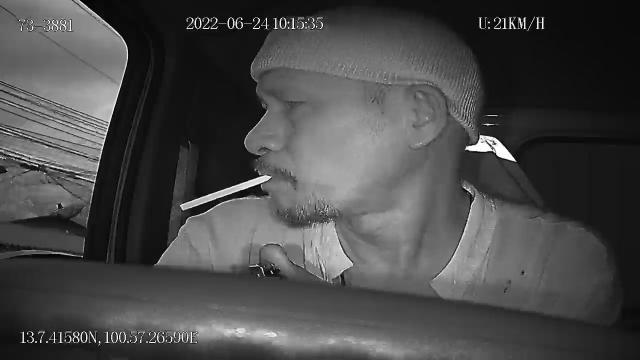Smoking: (178, 173, 274, 215)
